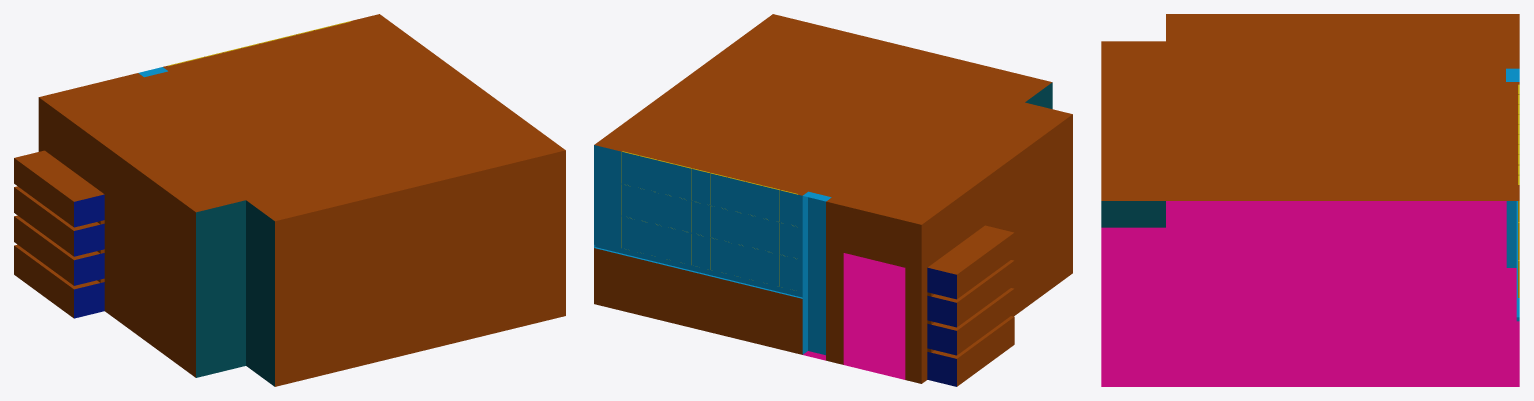
File: tight_room.fbx
3 views of the same model, side by side, from view 1: azimuth 30°, elevation 25°; view 2: azimuth 150°, elevation 25°; view 3: azimuth 270°, elevation 25° (orthographic). The views are drawn at different scales.
Parts seen in each view (by area): view 1: Box001; view 2: Box001; view 3: Box001.
Part boxes in pixels (left/top/right/bottom): Box001: left=14, top=14, right=565, bottom=386; Box001: left=594, top=14, right=1072, bottom=386; Box001: left=1101, top=14, right=1519, bottom=386.
Size of the model in its own units: 90.7 by 38.65 by 78.76.
